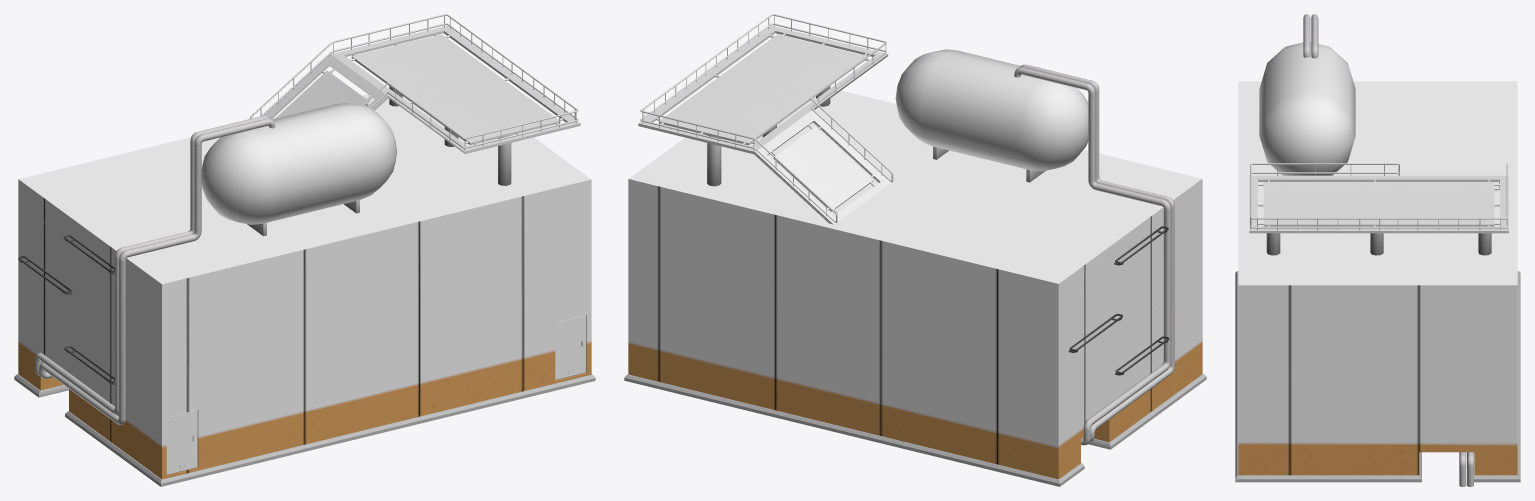
The model's file is let_10.FBX.
3 views of the same model, side by side, from view 1: azimuth 30°, elevation 25°; view 2: azimuth 150°, elevation 25°; view 3: azimuth 270°, elevation 25° (orthographic). The views are drawn at different scales.
Visible parts, largest first — view 1: Object002, Capsule001, Plane003; view 2: Object002, Plane003, Capsule001; view 3: Object002, Plane003, Capsule001.
Boxes of the visible parts, bbox=[...] form: Object002: bbox=[14, 94, 595, 486]; Capsule001: bbox=[18, 103, 396, 424]; Plane003: bbox=[250, 14, 580, 185]; Object002: bbox=[624, 90, 1206, 486]; Plane003: bbox=[638, 14, 893, 224]; Capsule001: bbox=[895, 49, 1174, 445]; Object002: bbox=[1235, 81, 1520, 482]; Plane003: bbox=[1249, 163, 1508, 255]; Capsule001: bbox=[1259, 14, 1473, 486].
Bounding box in the file's own units: 18.44 × 11.98 × 10.38.
